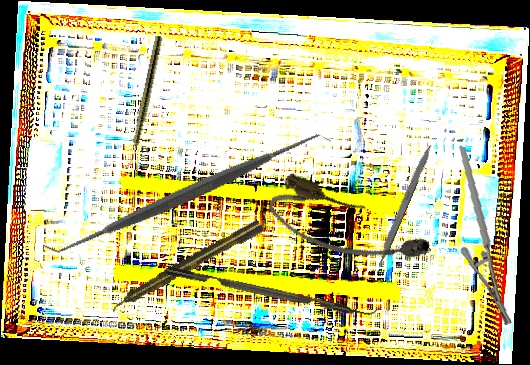Cannula: (262, 169, 435, 287)
Chopper: (166, 255, 381, 323)
Handpiece: (107, 218, 265, 315), (125, 34, 164, 170)
Needle Holder: (444, 146, 528, 326)
Scalpel Handle: (372, 141, 435, 270)
Spatula Surgical: (42, 47, 332, 340)
